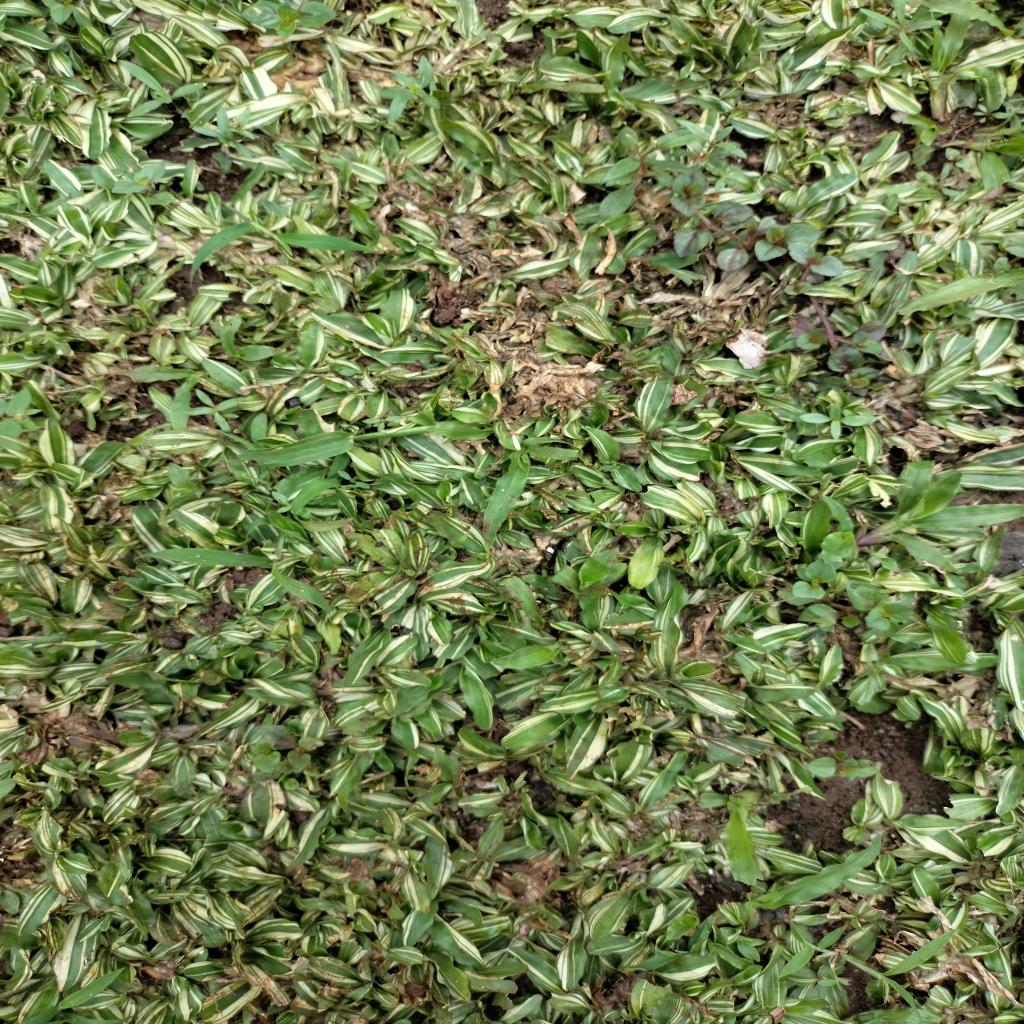akar wangi palsu: (170, 103, 263, 175), (116, 56, 210, 120), (374, 54, 447, 124), (182, 385, 244, 436)
buah daun: (938, 170, 982, 191)
gingseng jawa: (597, 128, 697, 223), (859, 0, 943, 54), (918, 163, 965, 199), (971, 102, 1011, 126)
rambat atas: (133, 546, 333, 616), (839, 925, 960, 1024), (225, 203, 379, 258), (19, 964, 129, 1024), (776, 915, 841, 980)
rambat bawah: (854, 456, 1024, 576), (234, 419, 500, 470), (477, 434, 587, 553), (742, 830, 884, 917), (697, 784, 768, 886), (921, 0, 973, 121), (122, 364, 209, 434), (552, 543, 630, 616), (950, 123, 1024, 192), (217, 310, 291, 362)
tunggang tengah: (0, 394, 46, 438)
ungu tunggang: (668, 159, 848, 298), (791, 555, 917, 632), (789, 320, 891, 398), (249, 714, 324, 790), (242, 0, 338, 41), (108, 158, 180, 208), (803, 749, 884, 783)
